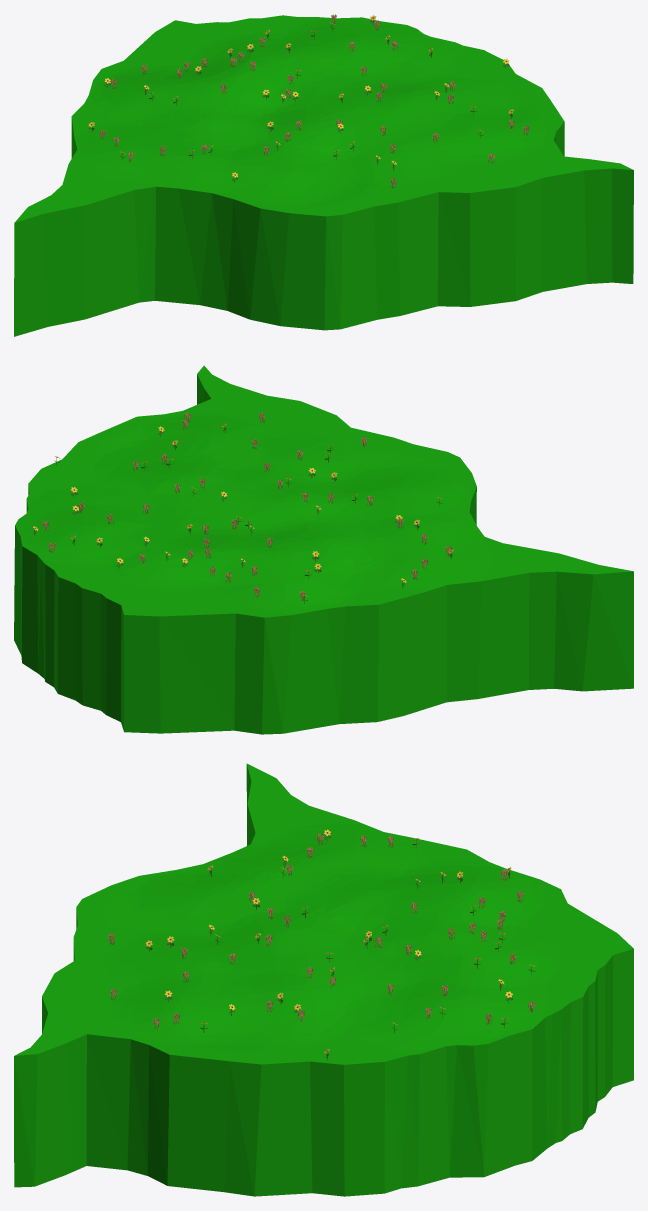
The model's file is PlainsLevelPart1.fbx.
3 views of the same model, one above another, from view 1: azimuth 30°, elevation 25°; view 2: azimuth 150°, elevation 25°; view 3: azimuth 270°, elevation 25° (orthographic). The views are drawn at different scales.
Parts seen in each view (by area): view 1: Human_Plains_Part1_Level; view 2: Human_Plains_Part1_Level; view 3: Human_Plains_Part1_Level.
Part boxes in pixels (left/top/right/bottom): Human_Plains_Part1_Level: left=14, top=15, right=633, bottom=336; Human_Plains_Part1_Level: left=14, top=365, right=633, bottom=734; Human_Plains_Part1_Level: left=14, top=763, right=633, bottom=1196.
Size of the model in its own units: 982 by 853 by 229.
